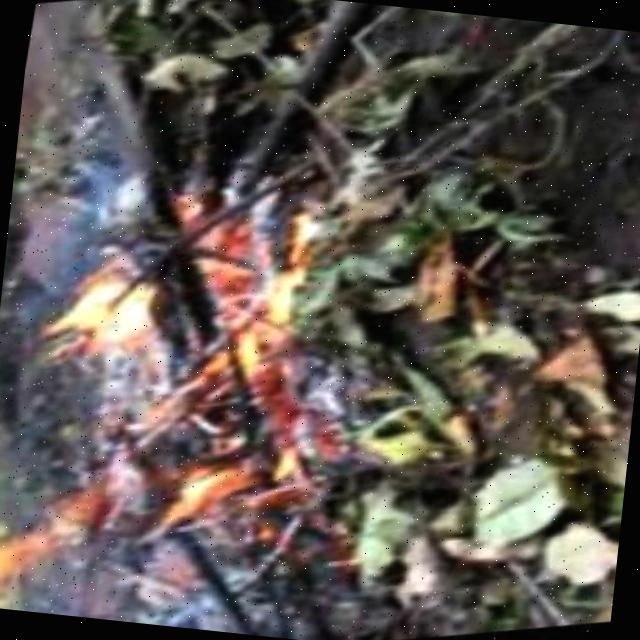fire: (0, 159, 364, 613)
